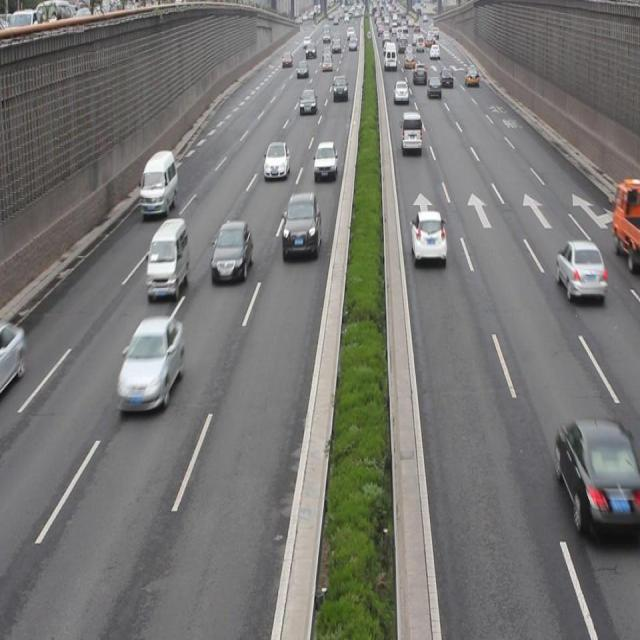bus: (611, 175, 640, 261)
car: (556, 419, 633, 542), (118, 316, 185, 415), (554, 240, 605, 300), (283, 192, 320, 256), (211, 223, 251, 281), (410, 211, 445, 265), (263, 142, 289, 180), (313, 141, 337, 180)
truck: (147, 218, 186, 301), (139, 152, 177, 213), (400, 112, 422, 151)
